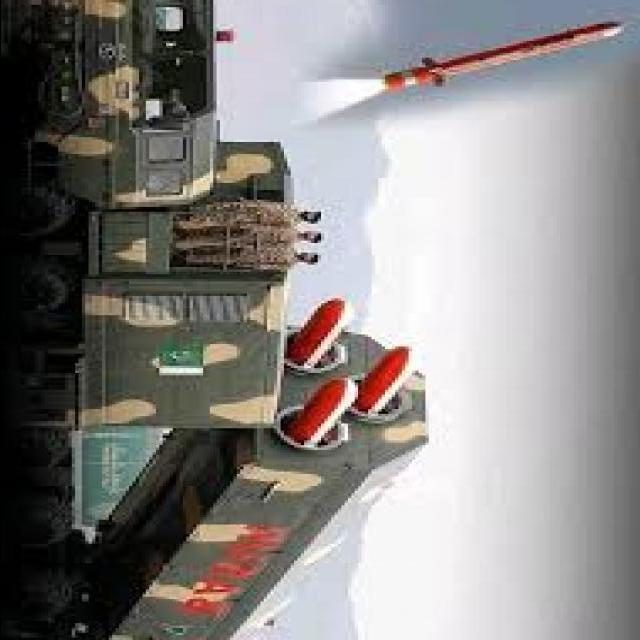missile: (374, 18, 626, 91)
